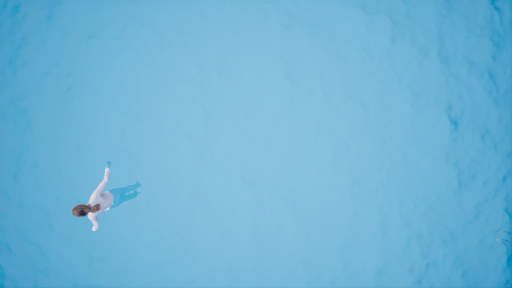person: (61, 158, 153, 227)
